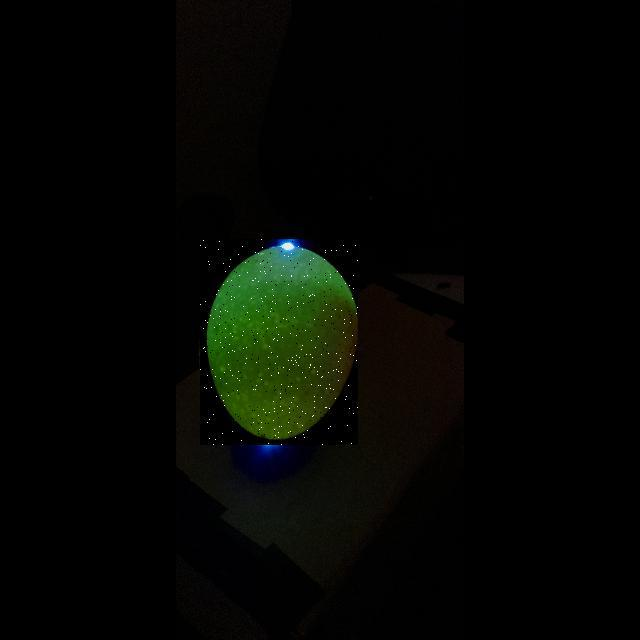Fertile: (200, 239, 358, 445)
